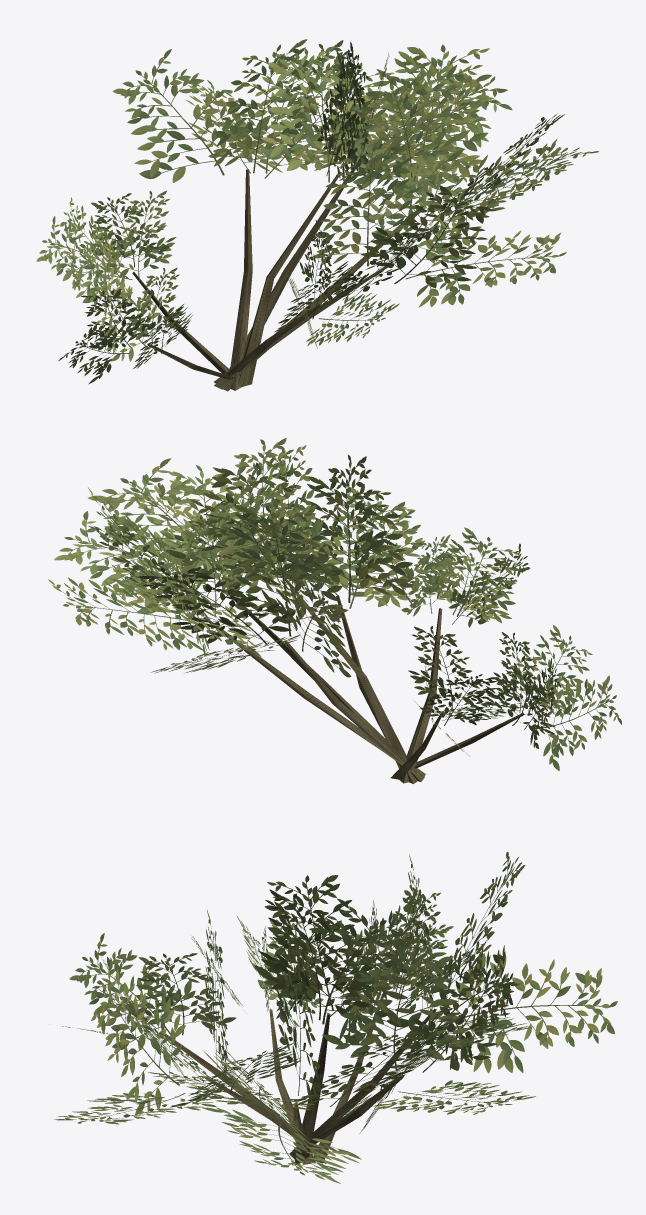
Rendered from shrub-2_lod1.glb.
3 renders of one model, top to bottom at view 1: azimuth 30°, elevation 25°; view 2: azimuth 150°, elevation 25°; view 3: azimuth 270°, elevation 25°, orthographic. The views are drawn at different scales.
Visible parts, largest first — view 1: shrub-2_lod1; view 2: shrub-2_lod1; view 3: shrub-2_lod1.
Part boxes in pixels (bbox=[...]): shrub-2_lod1: bbox=[36, 39, 598, 391]; shrub-2_lod1: bbox=[48, 438, 621, 783]; shrub-2_lod1: bbox=[54, 852, 617, 1183].
Size of the model in its own units: 2 by 1.03 by 1.55.
Materials: 2 (2 with a texture image).
